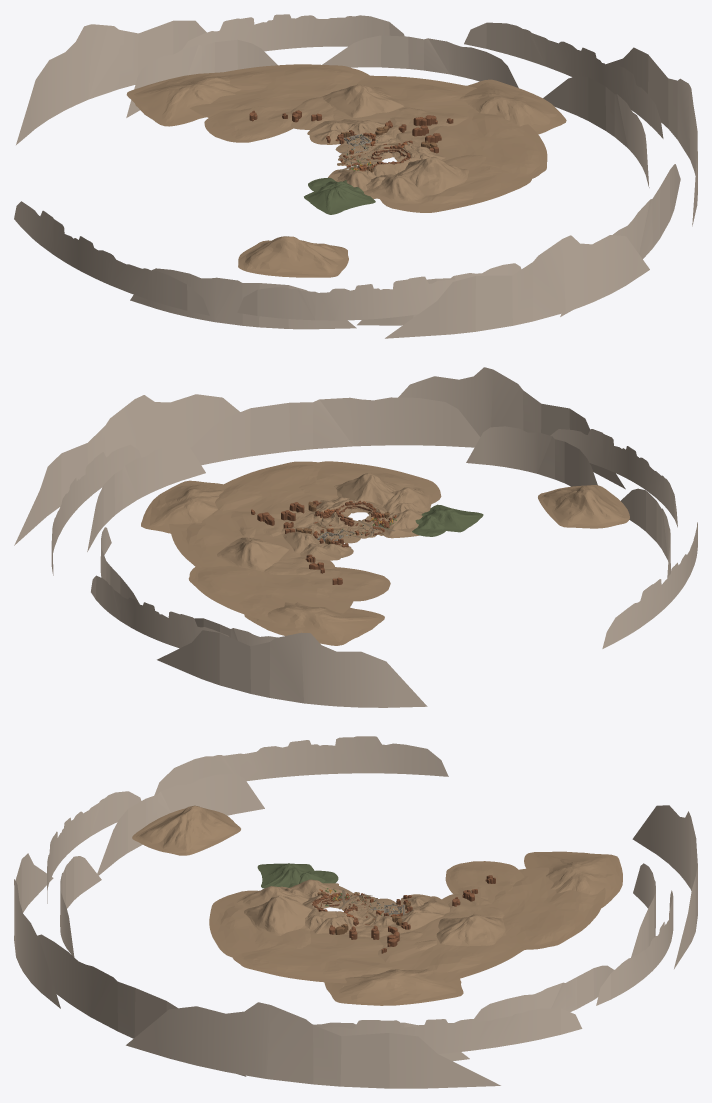
The model's file is Armadillo.glb.
The picture shows the model from 3 angles, top to bottom: view 1: azimuth 30°, elevation 25°; view 2: azimuth 150°, elevation 25°; view 3: azimuth 270°, elevation 25°; orthographic projection. The views are drawn at different scales.
Parts seen in each view (by area): view 1: SM_Env_BackgroundCard_03__1_, SM_Env_BackgroundCard_03, SM_Env_BackgroundCard_02__1_, SM_Env_BackgroundCard_02__3_, SM_Env_BackgroundCard_02__2_, SM_Env_Mound_Large_02__52_, SM_Env_BackgroundCard_01__7_, SM_Env_BackgroundCard_02, SM_Env_Mound_Large_02__58_, SM_Env_BackgroundCard_01__4_, SM_Env_BackgroundCard_01__2_, SM_Env_BackgroundCard_03__2_ (+15 smaller); view 2: SM_Env_BackgroundCard_01__5_, SM_Env_BackgroundCard_03, SM_Env_BackgroundCard_03__2_, SM_Env_BackgroundCard_03__1_, SM_Env_Mound_Large_02__52_, SM_Env_BackgroundCard_01__1_, SM_Env_BackgroundCard_01__2_, SM_Env_Mound_Large_02__58_, SM_Env_Mound_Large_02__55_, SM_Env_Mound_Hill_02__13_, SM_Env_BackgroundCard_02__1_, SM_Env_BackgroundCard_02 (+15 smaller); view 3: SM_Env_BackgroundCard_03__2_, SM_Env_BackgroundCard_02__3_, SM_Env_BackgroundCard_02__2_, SM_Env_Mound_Large_02__52_, SM_Env_BackgroundCard_01__5_, SM_Env_Mound_Large_02__58_, SM_Env_BackgroundCard_01__4_, SM_Env_Mound_Large_02__55_, SM_Env_BackgroundCard_03, SM_Env_Mound_Hill_02__14_, SM_Env_Mound_Hill_01__10_, SM_Env_Mound_Hill_02__13_ (+13 smaller).
Boxes of the visible parts, left/top/right/bottom form: SM_Env_BackgroundCard_03__1_: left=385, top=235, right=649, bottom=338; SM_Env_BackgroundCard_03: left=16, top=20, right=206, bottom=144; SM_Env_BackgroundCard_02__1_: left=237, top=276, right=461, bottom=320; SM_Env_BackgroundCard_02__3_: left=14, top=201, right=209, bottom=315; SM_Env_BackgroundCard_02__2_: left=464, top=22, right=663, bottom=138; SM_Env_Mound_Large_02__52_: left=190, top=64, right=369, bottom=117; SM_Env_BackgroundCard_01__7_: left=322, top=35, right=518, bottom=87; SM_Env_BackgroundCard_02: left=183, top=14, right=404, bottom=51; SM_Env_Mound_Large_02__58_: left=425, top=109, right=547, bottom=178; SM_Env_BackgroundCard_01__4_: left=130, top=268, right=356, bottom=329; SM_Env_BackgroundCard_01__2_: left=543, top=76, right=649, bottom=187; SM_Env_BackgroundCard_03__2_: left=606, top=47, right=697, bottom=226; SM_Env_BackgroundCard_01__5_: left=190, top=397, right=480, bottom=465; SM_Env_BackgroundCard_03: left=157, top=630, right=427, bottom=707; SM_Env_BackgroundCard_03__2_: left=14, top=394, right=240, bottom=545; SM_Env_BackgroundCard_03__1_: left=398, top=367, right=625, bottom=489; SM_Env_Mound_Large_02__52_: left=188, top=566, right=353, bottom=623; SM_Env_BackgroundCard_01__1_: left=466, top=426, right=597, bottom=486; SM_Env_BackgroundCard_01__2_: left=87, top=443, right=205, bottom=551; SM_Env_Mound_Large_02__58_: left=212, top=461, right=330, bottom=518; SM_Env_Mound_Large_02__55_: left=169, top=511, right=300, bottom=567; SM_Env_Mound_Hill_02__13_: left=244, top=602, right=384, bottom=645; SM_Env_BackgroundCard_02__1_: left=550, top=429, right=677, bottom=527; SM_Env_BackgroundCard_02: left=91, top=575, right=229, bottom=648; SM_Env_BackgroundCard_03__2_: left=126, top=1002, right=500, bottom=1088; SM_Env_BackgroundCard_02__3_: left=154, top=736, right=448, bottom=795; SM_Env_BackgroundCard_02__2_: left=321, top=1008, right=582, bottom=1053; SM_Env_Mound_Large_02__52_: left=492, top=867, right=605, bottom=949; SM_Env_BackgroundCard_01__5_: left=37, top=934, right=246, bottom=1076; SM_Env_Mound_Large_02__58_: left=232, top=930, right=404, bottom=983; SM_Env_BackgroundCard_01__4_: left=97, top=774, right=264, bottom=875; SM_Env_Mound_Large_02__55_: left=378, top=912, right=525, bottom=982; SM_Env_BackgroundCard_03: left=632, top=805, right=697, bottom=968; SM_Env_Mound_Hill_02__14_: left=324, top=968, right=463, bottom=1005; SM_Env_Mound_Hill_01__10_: left=132, top=805, right=240, bottom=855; SM_Env_Mound_Hill_02__13_: left=524, top=851, right=622, bottom=907.
Bounding box in the file's own units: 1403 × 181 × 1359.
Materials: 10 (5 with a texture image).
